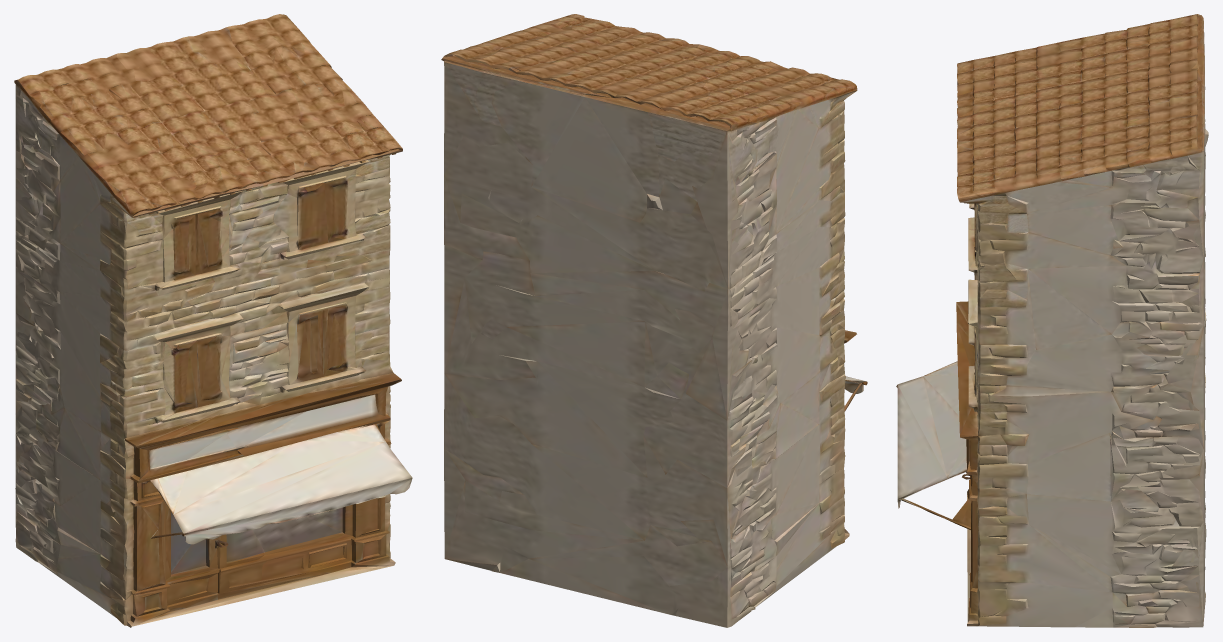
File: filler_food_bakery.glb
3 views of the same model, side by side, from view 1: azimuth 30°, elevation 25°; view 2: azimuth 150°, elevation 25°; view 3: azimuth 270°, elevation 25° (orthographic). The views are drawn at different scales.
Visible parts, largest first — view 1: Mesh_0; view 2: Mesh_0; view 3: Mesh_0.
Part boxes in pixels (x1,y1,x2,y2): Mesh_0: (14,14,412,627); Mesh_0: (441,14,867,627); Mesh_0: (896,14,1208,627).
Size of the model in its own units: 4.96 by 8.18 by 4.8.
1 material, 1 textured.
